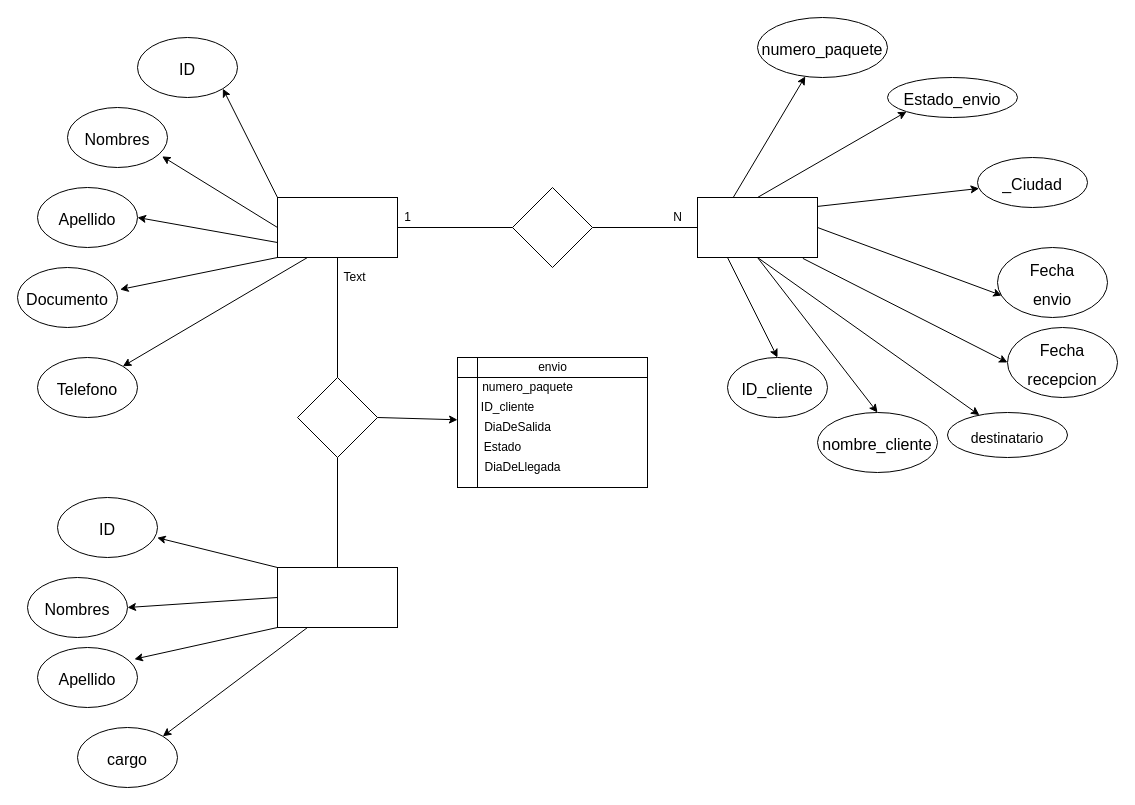
This 1135x805 diagram has some shape labels left out. The centre of each missing label's shape, as x and y in pixels:
clientes: the point at 337,227
empleados: the point at 337,597
paquete: the point at 757,227
